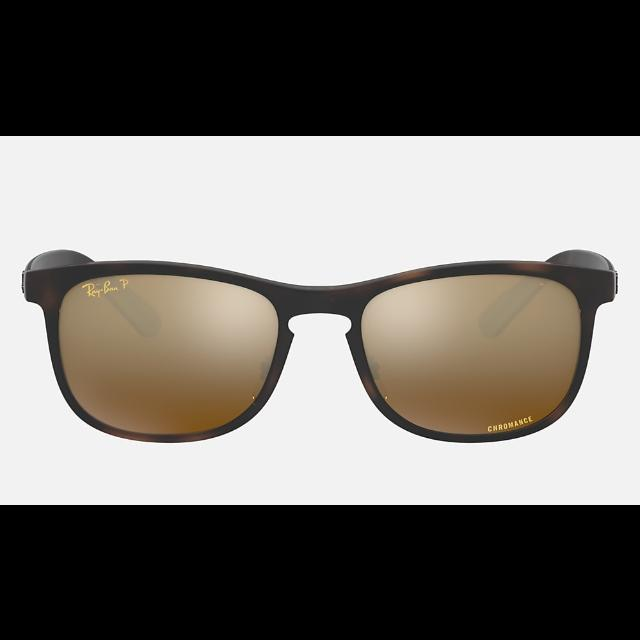Sunglasses: (23, 248, 619, 442)
